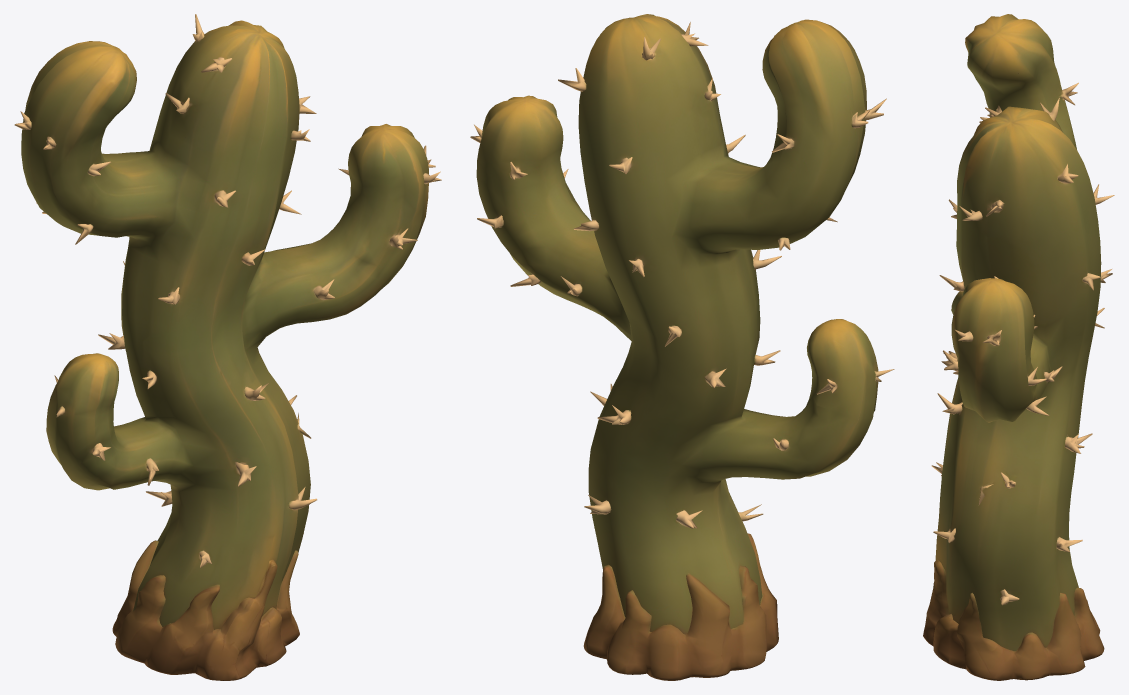
File: saguaro.glb
3 renders of one model, left to right at view 1: azimuth 30°, elevation 25°; view 2: azimuth 150°, elevation 25°; view 3: azimuth 270°, elevation 25°, orthographic. The views are drawn at different scales.
Parts seen in each view (by area): view 1: tripo_node_dcf345e2-f759-4e78-9e33-6e6f7b5493fd; view 2: tripo_node_dcf345e2-f759-4e78-9e33-6e6f7b5493fd; view 3: tripo_node_dcf345e2-f759-4e78-9e33-6e6f7b5493fd.
Part boxes in pixels (x1,y1,x2,y2): tripo_node_dcf345e2-f759-4e78-9e33-6e6f7b5493fd: (14, 14, 441, 680); tripo_node_dcf345e2-f759-4e78-9e33-6e6f7b5493fd: (470, 14, 894, 680); tripo_node_dcf345e2-f759-4e78-9e33-6e6f7b5493fd: (923, 14, 1114, 680).
Bounding box in the file's own units: 0.6704 × 0.9995 × 0.3013.
1 material, 1 textured.
